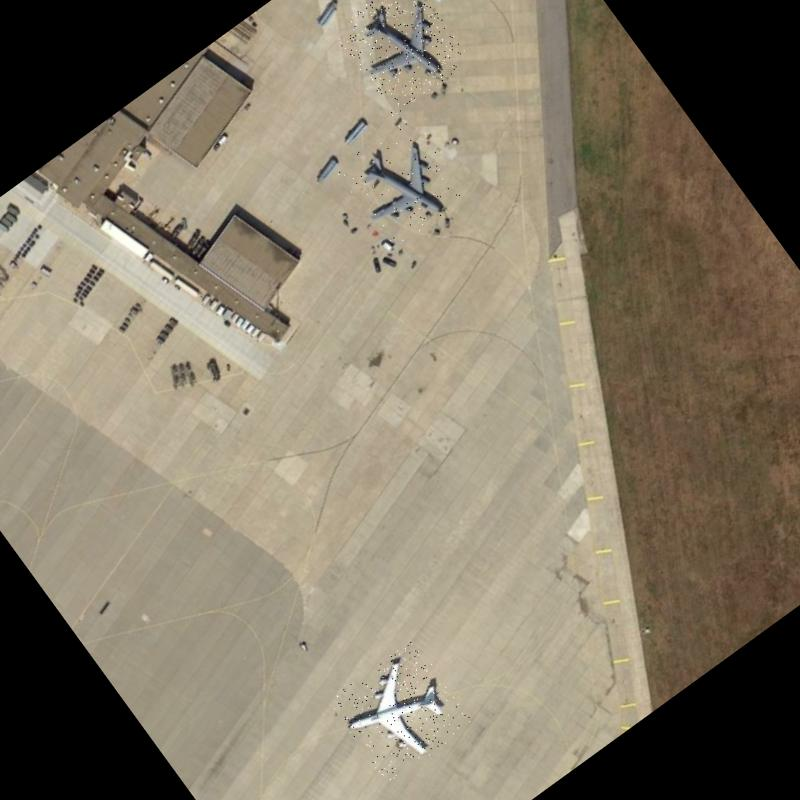A11: (326, 638, 474, 785)
A14: (334, 112, 470, 250), (330, 0, 471, 116)
